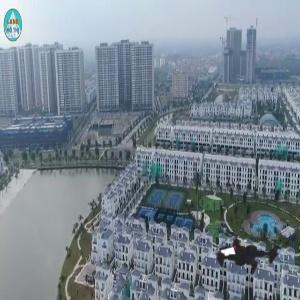drone: (199, 199, 300, 300)
